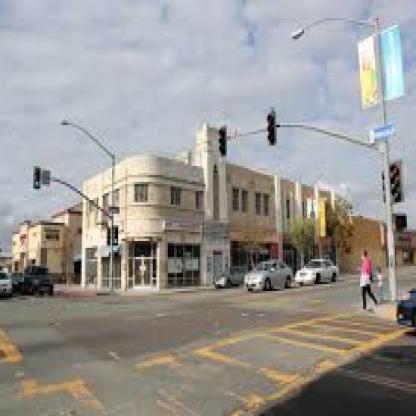car: (241, 248, 295, 300), (294, 242, 339, 296), (206, 254, 252, 296), (22, 259, 64, 301)
